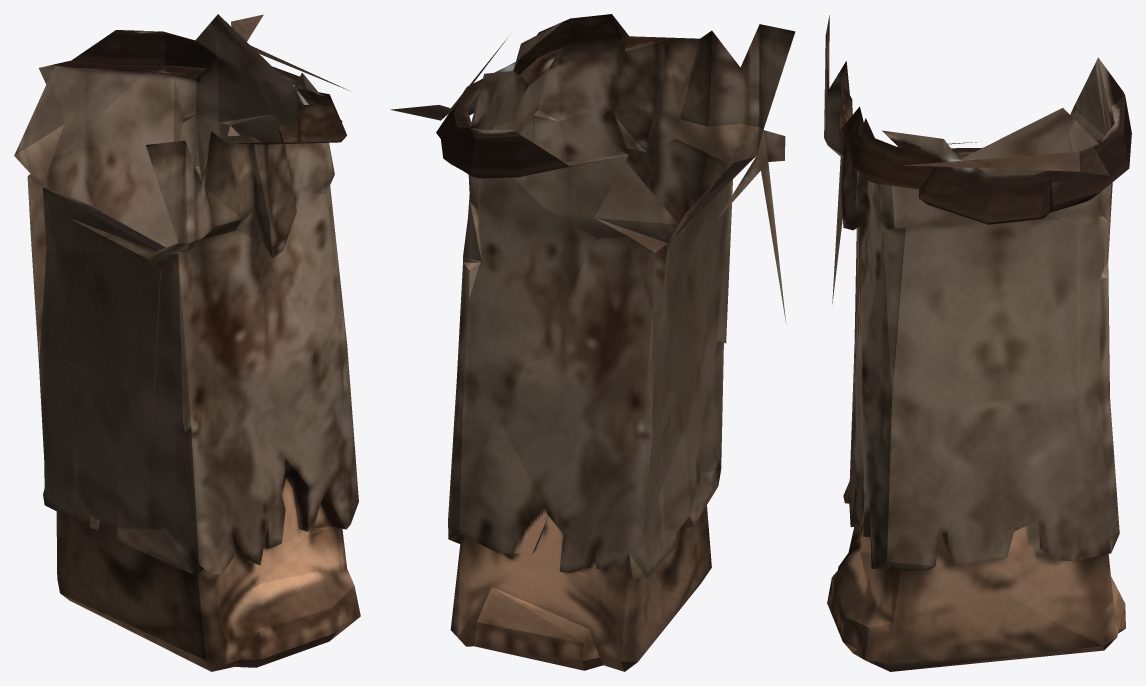
File: patient_legPos.glb
3 renders of one model, left to right at view 1: azimuth 30°, elevation 25°; view 2: azimuth 150°, elevation 25°; view 3: azimuth 270°, elevation 25°, orthographic. The views are drawn at different scales.
Parts seen in each view (by area): view 1: legPos; view 2: legPos; view 3: legPos.
Boxes of the visible parts, bbox=[...] form: legPos: bbox=[14, 14, 360, 671]; legPos: bbox=[390, 14, 795, 671]; legPos: bbox=[824, 15, 1131, 671].
Size of the model in its own units: 0.3719 by 0.7365 by 0.3743.
Materials: 1 (1 with a texture image).
